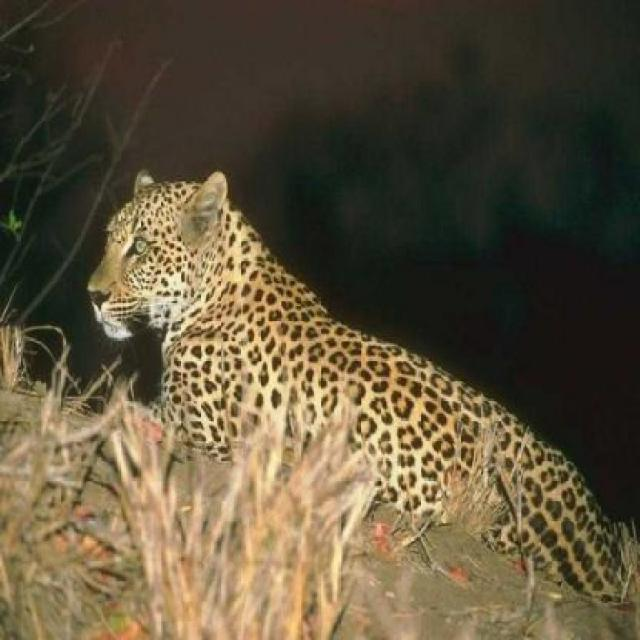Leopard: (57, 132, 638, 618)
